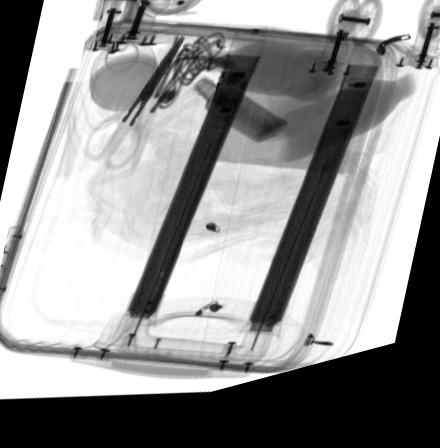Scissors: (80, 43, 191, 178)
